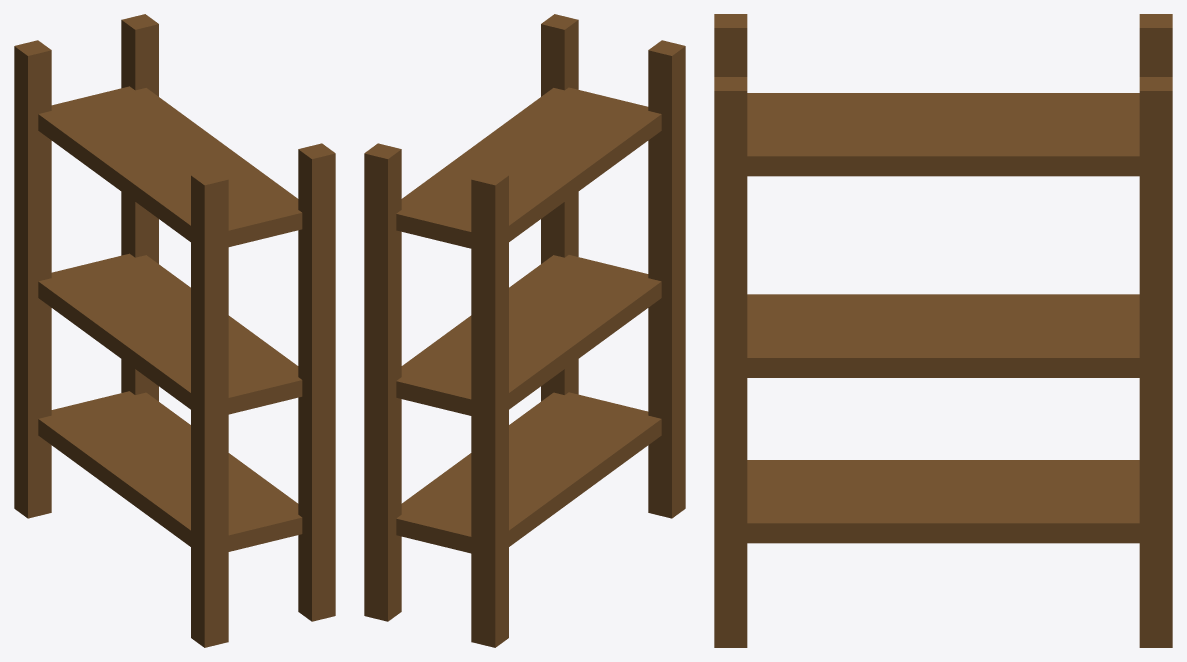
The model's file is shelf.fbx.
3 renders of one model, left to right at view 1: azimuth 30°, elevation 25°; view 2: azimuth 150°, elevation 25°; view 3: azimuth 270°, elevation 25°, orthographic. The views are drawn at different scales.
Visible parts, largest first — view 1: shelf; view 2: shelf; view 3: shelf.
Boxes of the visible parts, x1,y1,x2,y2 form: shelf: [14, 14, 335, 647]; shelf: [364, 14, 685, 647]; shelf: [714, 14, 1172, 647].
Size of the model in its own units: 111 by 374 by 279.
